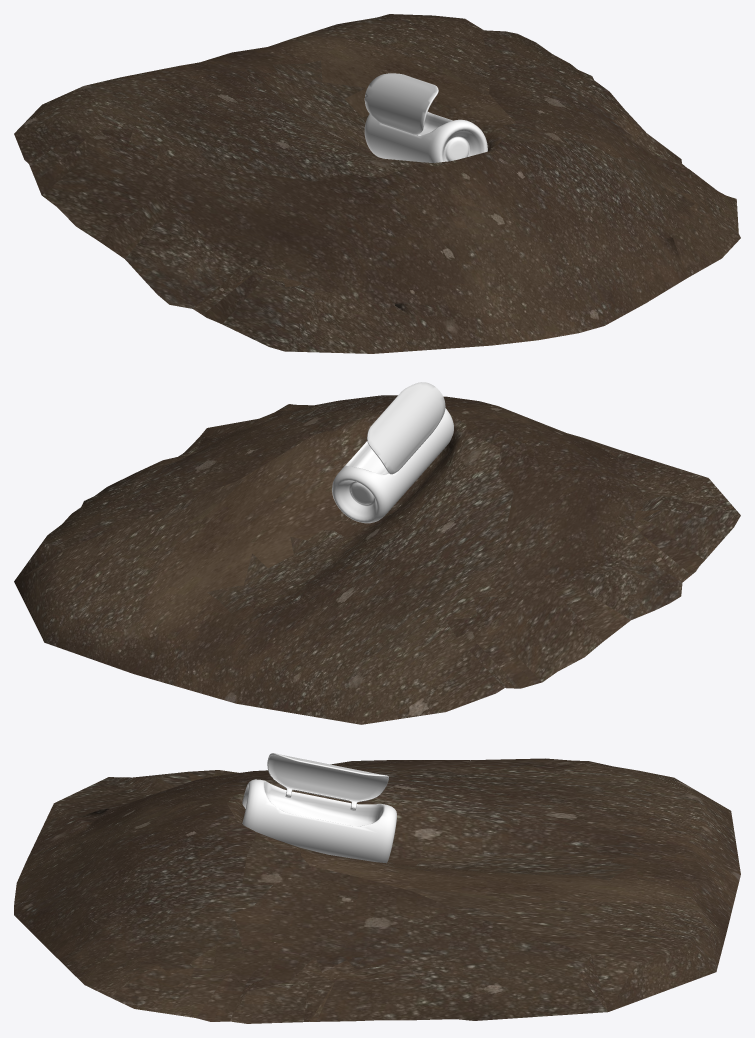
File: EscapePod.fbx
The picture shows the model from 3 angles, top to bottom: view 1: azimuth 30°, elevation 25°; view 2: azimuth 150°, elevation 25°; view 3: azimuth 270°, elevation 25°; orthographic projection.
Parts seen in each view (by area): view 1: EscapePod_Dirt, EscapePod, EscapePod_Door; view 2: EscapePod_Dirt, EscapePod, EscapePod_Door; view 3: EscapePod_Dirt, EscapePod, EscapePod_Door.
Boxes of the visible parts, bbox=[...] form: EscapePod_Dirt: bbox=[14, 14, 740, 353]; EscapePod: bbox=[364, 112, 487, 162]; EscapePod_Door: bbox=[364, 73, 438, 135]; EscapePod_Dirt: bbox=[14, 395, 740, 724]; EscapePod: bbox=[332, 408, 453, 523]; EscapePod_Door: bbox=[367, 382, 445, 474]; EscapePod_Dirt: bbox=[14, 758, 740, 1023]; EscapePod: bbox=[242, 779, 396, 863]; EscapePod_Door: bbox=[267, 753, 388, 810].
Size of what is drawn, in the model's own units: 3452 by 941 by 4159.
